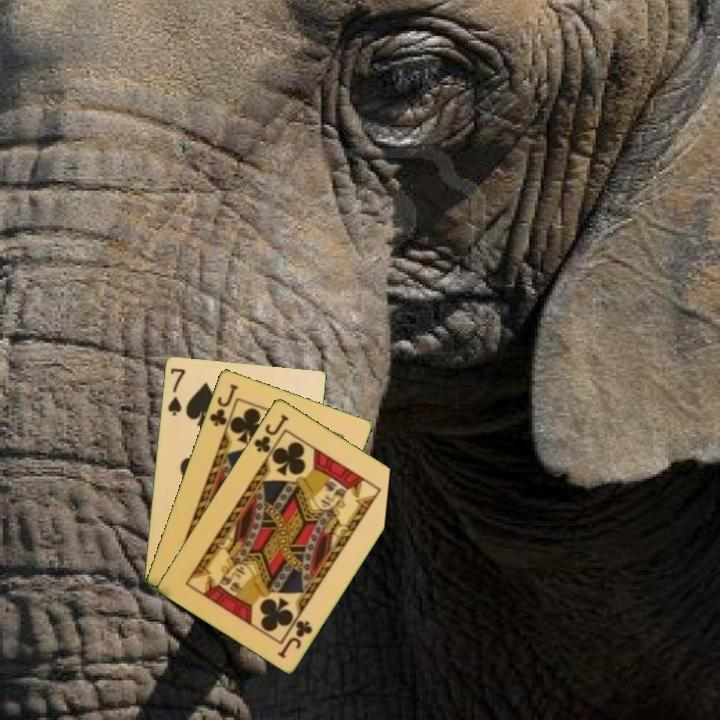7s: (164, 364, 188, 418)
Jc: (250, 410, 292, 455), (274, 616, 315, 661), (206, 380, 241, 429)
